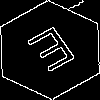E: (25, 25, 84, 82)
